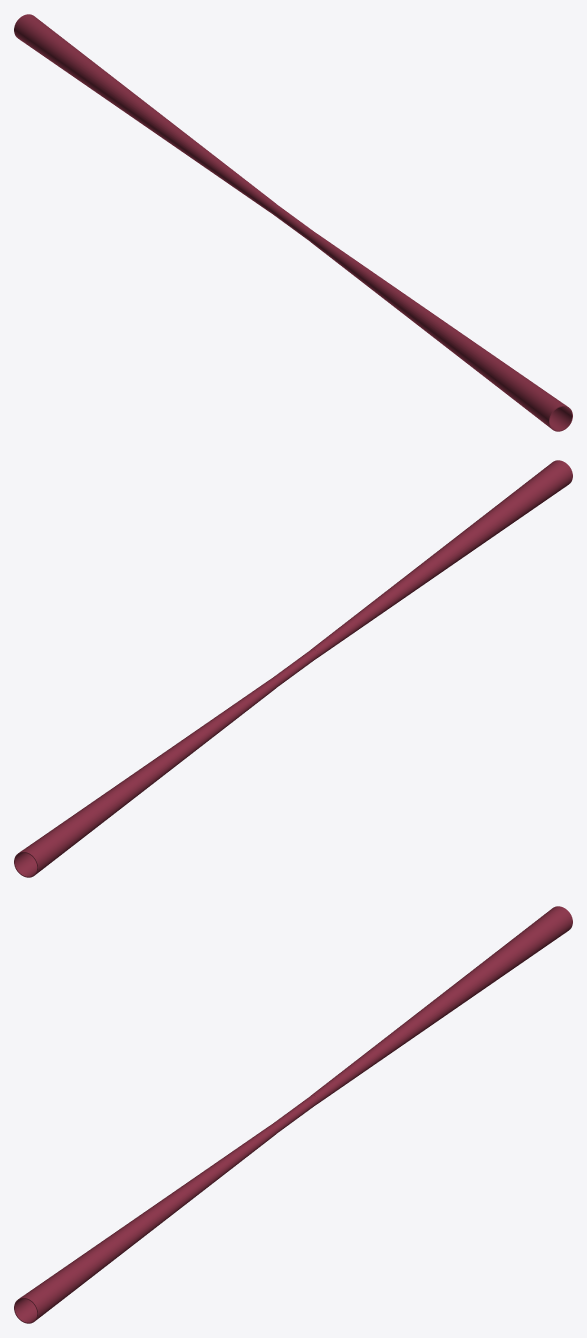
Rendered from IDEA_o1_v03.gltf.
The picture shows the model from 3 angles, top to bottom: view 1: azimuth 30°, elevation 25°; view 2: azimuth 150°, elevation 25°; view 3: azimuth 330°, elevation 25°; orthographic projection.
Parts seen in each view (by area): view 1: tube_AlBeMet162_wall_6, tube_AlBeMet162_wall2_7; view 2: tube_AlBeMet162_wall2_7, tube_AlBeMet162_wall_6; view 3: tube_AlBeMet162_wall_6, tube_AlBeMet162_wall2_7.
Boxes of the visible parts, x1,y1,x2,y2 form: tube_AlBeMet162_wall_6: (309, 232, 572, 431); tube_AlBeMet162_wall2_7: (14, 14, 275, 211); tube_AlBeMet162_wall2_7: (14, 678, 277, 877); tube_AlBeMet162_wall_6: (311, 460, 572, 657); tube_AlBeMet162_wall_6: (14, 1124, 277, 1323); tube_AlBeMet162_wall2_7: (311, 906, 572, 1103).
Bounding box in the file's own units: 6.18 × 6.15 × 238.
